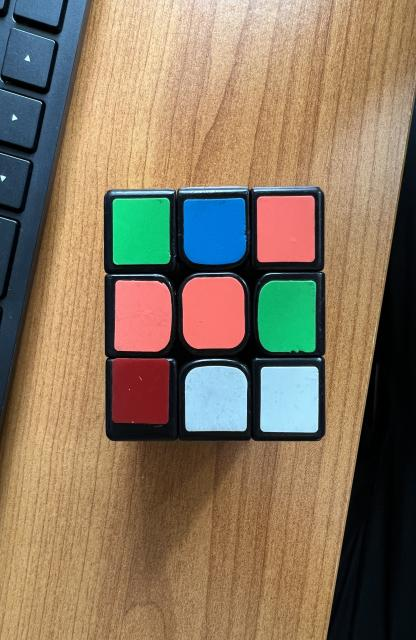Blue: (183, 198, 246, 265)
Green: (258, 280, 316, 352), (113, 198, 171, 265)
Orange: (182, 276, 245, 349), (114, 280, 172, 351), (257, 195, 315, 262)
Red: (112, 359, 169, 425)
White: (185, 366, 247, 431), (260, 366, 318, 432)
